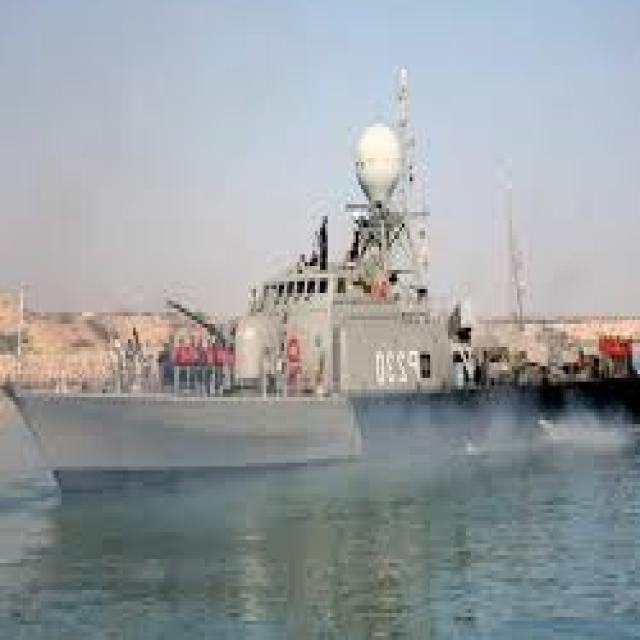navalvessels: (5, 112, 640, 493)
